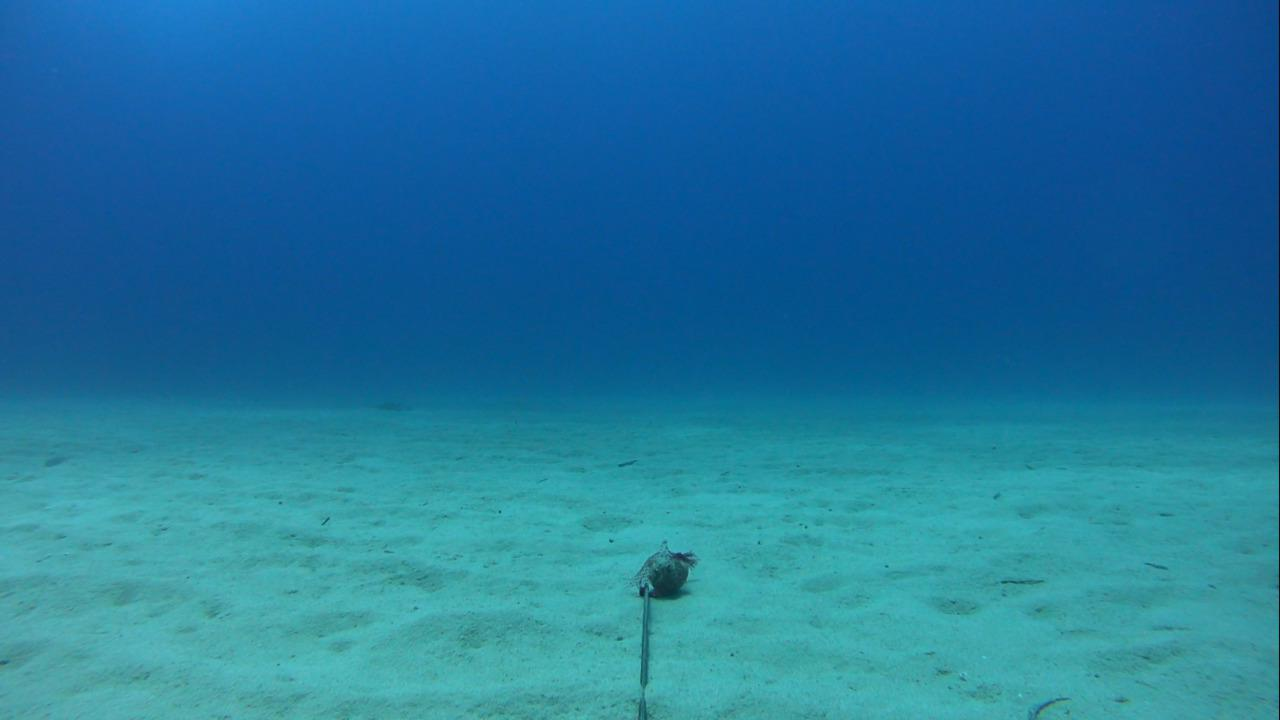myliobatis: (358, 394, 430, 416)
